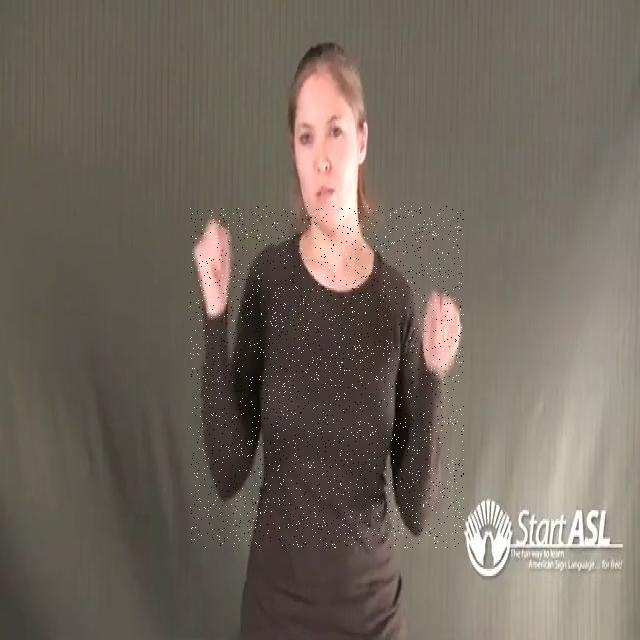cold: (190, 206, 464, 548)
